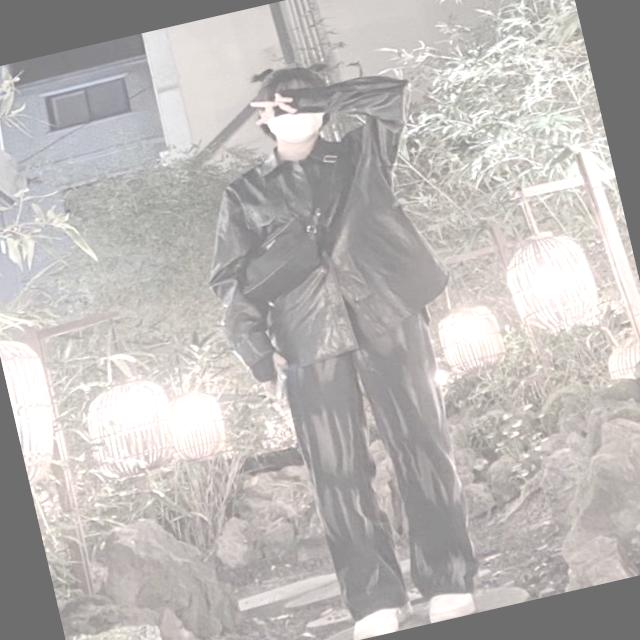denimpants: (258, 247, 491, 622)
jacket: (165, 58, 468, 380)
